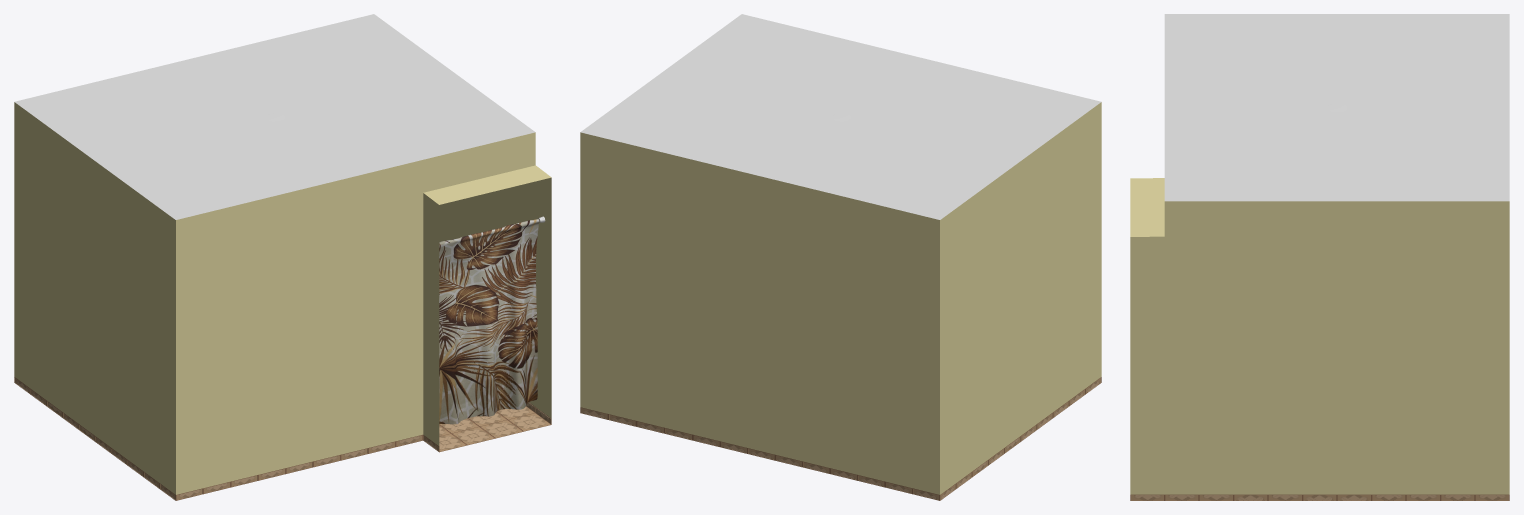
The model's file is cuarto1.glb.
3 renders of one model, left to right at view 1: azimuth 30°, elevation 25°; view 2: azimuth 150°, elevation 25°; view 3: azimuth 270°, elevation 25°, orthographic. The views are drawn at different scales.
Visible parts, largest first — view 1: Cube, Plane.002; view 2: Cube; view 3: Cube.
Boxes of the visible parts, x1,y1,x2,y2 form: Cube: (14, 14, 551, 500); Plane.002: (439, 219, 539, 424); Cube: (580, 14, 1101, 500); Cube: (1130, 14, 1509, 500).
Size of the model in its own units: 12.85 by 9.58 by 10.99.
Materials: 9 (2 with a texture image).
